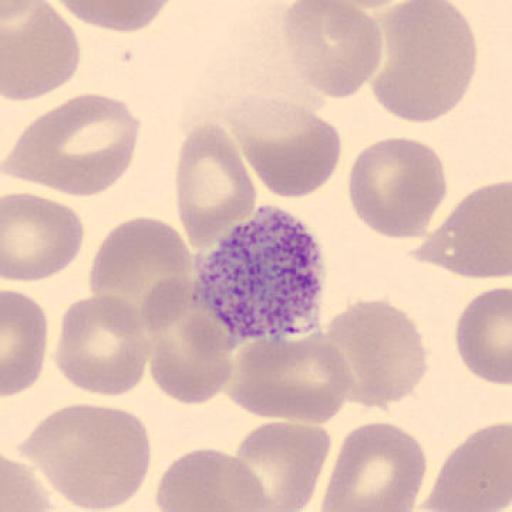Platelet: (192, 202, 326, 350)
RBC: (15, 402, 153, 512), (4, 92, 140, 198), (371, 0, 478, 126), (88, 214, 194, 336), (228, 92, 344, 200), (140, 276, 235, 407), (227, 330, 356, 426), (324, 297, 428, 411), (174, 121, 258, 251), (347, 136, 448, 242), (409, 179, 512, 280), (52, 293, 151, 398), (282, 1, 384, 99), (322, 420, 428, 511), (234, 419, 332, 512), (153, 445, 274, 512), (422, 421, 511, 512), (1, 1, 81, 102), (148, 316, 236, 406), (2, 190, 86, 283), (453, 284, 512, 385), (2, 288, 48, 398), (49, 0, 174, 34), (1, 453, 53, 512), (325, 0, 431, 11)
